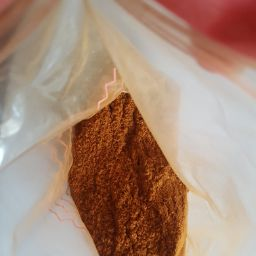Garam masala: (56, 101, 194, 256), (86, 95, 196, 256), (95, 134, 169, 246)
